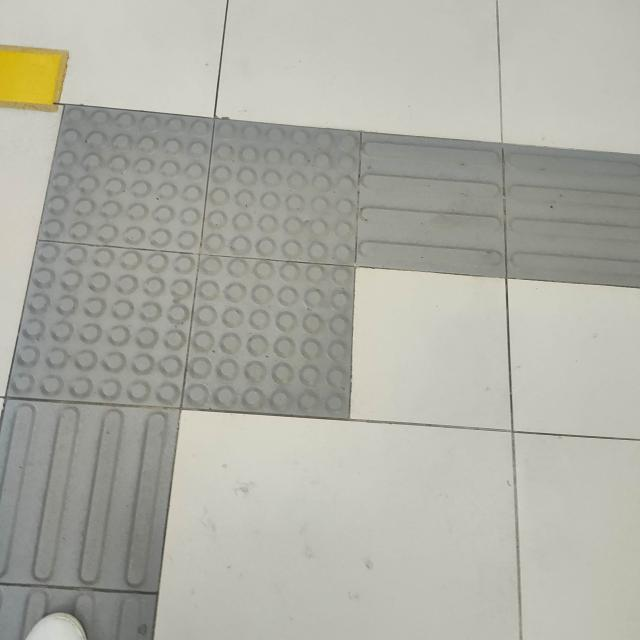kanan: (26, 72, 531, 438)
